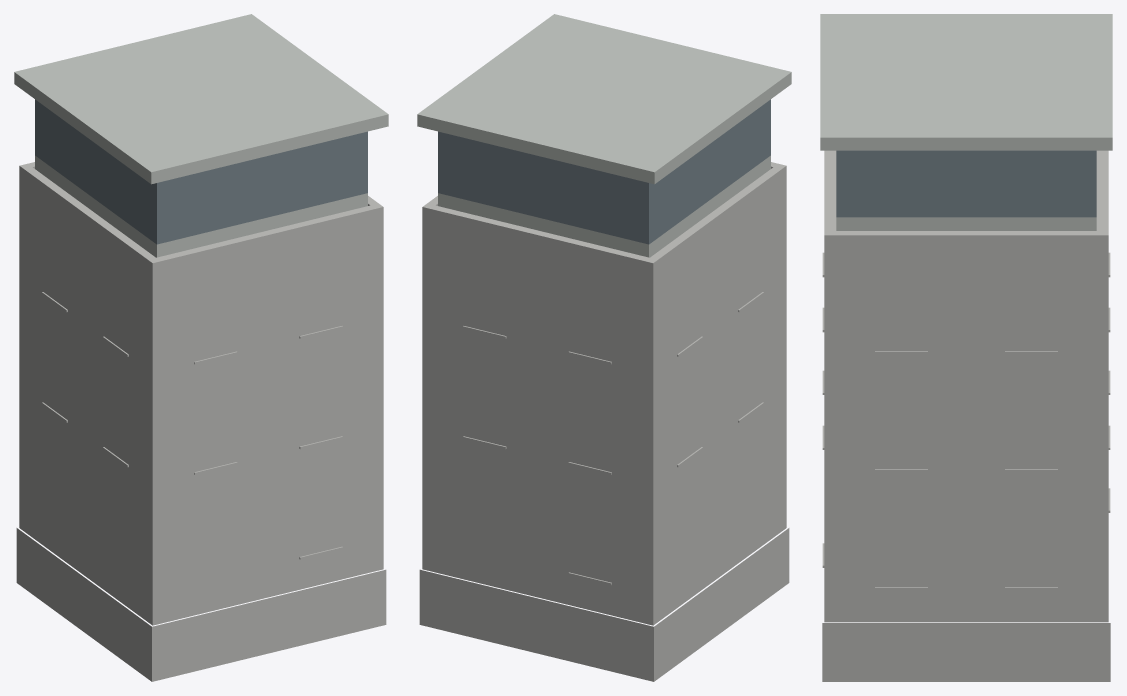
Rendered from control_tower.glb.
3 renders of one model, left to right at view 1: azimuth 30°, elevation 25°; view 2: azimuth 150°, elevation 25°; view 3: azimuth 270°, elevation 25°, orthographic. The views are drawn at different scales.
Parts seen in each view (by area): view 1: hi, far; view 2: hi, far; view 3: hi, far.
Part boxes in pixels (x1,y1,x2,y2): hi: (14,14,388,681); far: (19,199,383,624); hi: (417,14,791,681); far: (422,197,786,625); hi: (820,14,1112,681); far: (824,268,1108,622).
Bounding box in the file's own units: 7.2 × 14.8 × 7.2.
